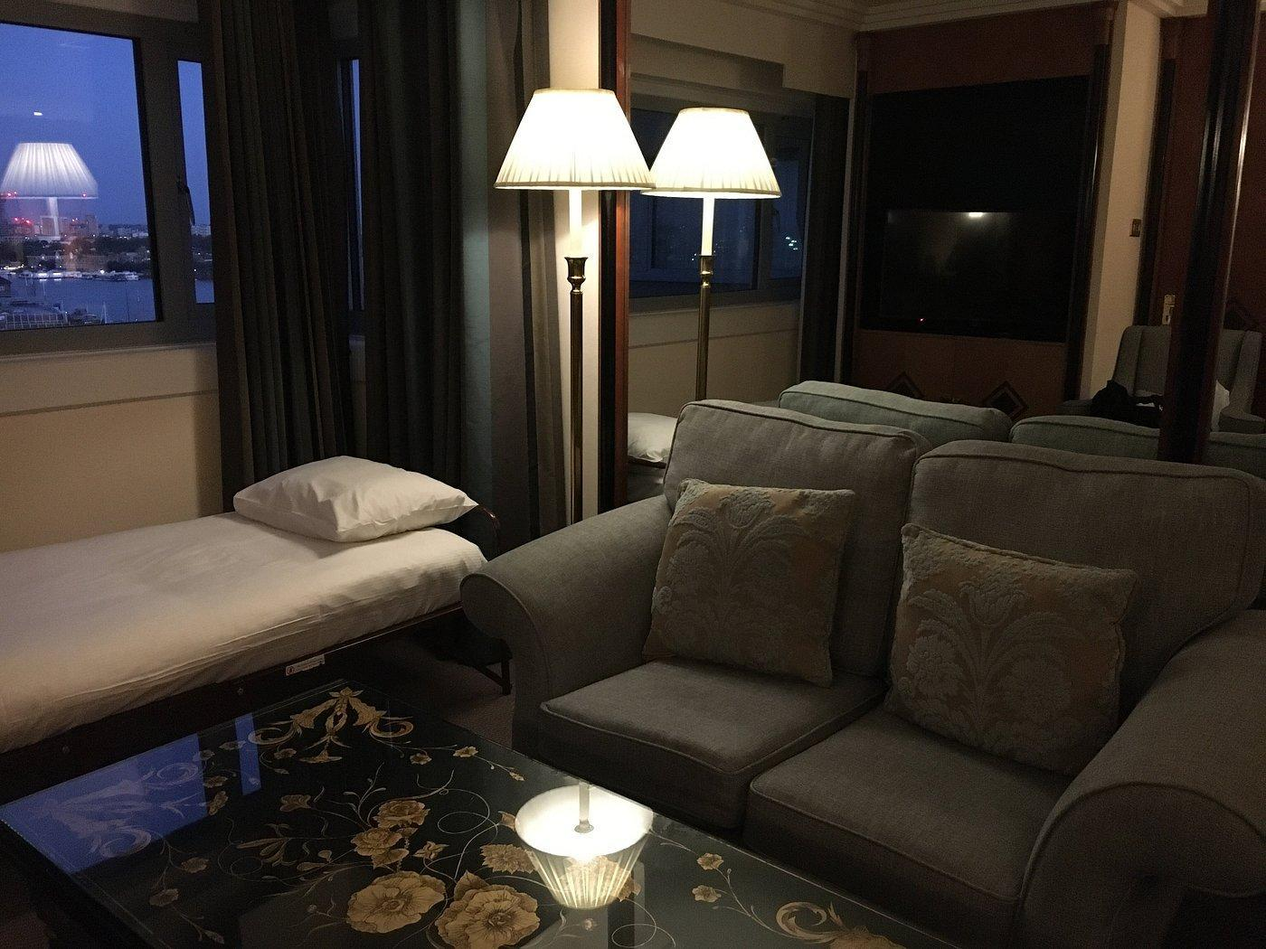clean_bed: (0, 453, 497, 755)
lamp: (534, 78, 651, 532), (669, 86, 782, 515)
organised_pillow: (197, 450, 490, 550)
